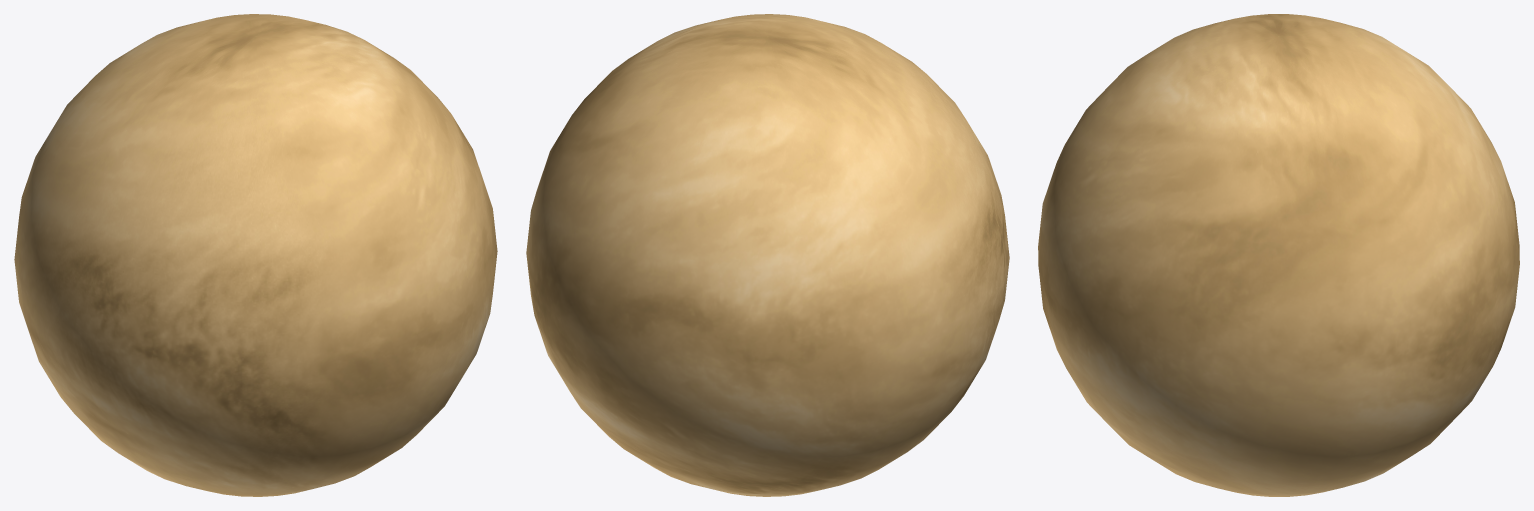
Rendered from Venus.glb.
The picture shows the model from 3 angles, left to right: view 1: azimuth 30°, elevation 25°; view 2: azimuth 150°, elevation 25°; view 3: azimuth 270°, elevation 25°; orthographic projection.
Parts seen in each view (by area): view 1: Venus; view 2: Venus; view 3: Venus.
Boxes of the visible parts, x1,y1,x2,y2 form: Venus: (14, 14, 497, 496); Venus: (526, 14, 1009, 496); Venus: (1038, 14, 1519, 496).
Size of the model in its own units: 0.8466 by 0.85 by 0.8466.
Materials: 1 (1 with a texture image).
